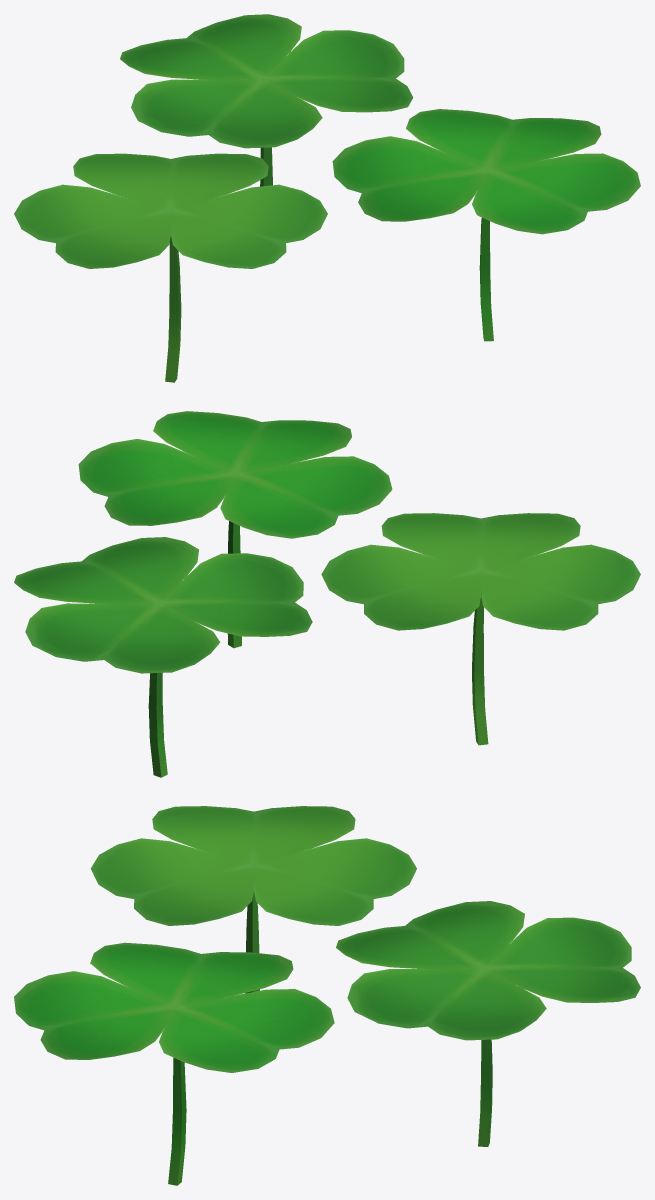
Rendered from env_harsyra_export_01.fbx.
3 views of the same model, one above another, from view 1: azimuth 30°, elevation 25°; view 2: azimuth 150°, elevation 25°; view 3: azimuth 270°, elevation 25° (orthographic). The views are drawn at different scales.
Parts seen in each view (by area): view 1: harsyra1_pPlane6, harsyra3_pPlane6, harsyra2_pPlane6; view 2: harsyra1_pPlane6, harsyra2_pPlane6, harsyra3_pPlane6; view 3: harsyra3_pPlane6, harsyra2_pPlane6, harsyra1_pPlane6.
Part boxes in pixels (bbox=[...]): harsyra1_pPlane6: bbox=[14, 153, 327, 382]; harsyra3_pPlane6: bbox=[332, 109, 640, 341]; harsyra2_pPlane6: bbox=[120, 14, 413, 186]; harsyra1_pPlane6: bbox=[321, 513, 640, 745]; harsyra2_pPlane6: bbox=[14, 537, 312, 777]; harsyra3_pPlane6: bbox=[78, 411, 392, 648]; harsyra3_pPlane6: bbox=[14, 942, 334, 1185]; harsyra2_pPlane6: bbox=[336, 901, 640, 1146]; harsyra1_pPlane6: bbox=[90, 806, 416, 993].
Bounding box in the file's own units: 11.78 × 3.68 × 11.55.
Materials: 3 (3 with a texture image).
